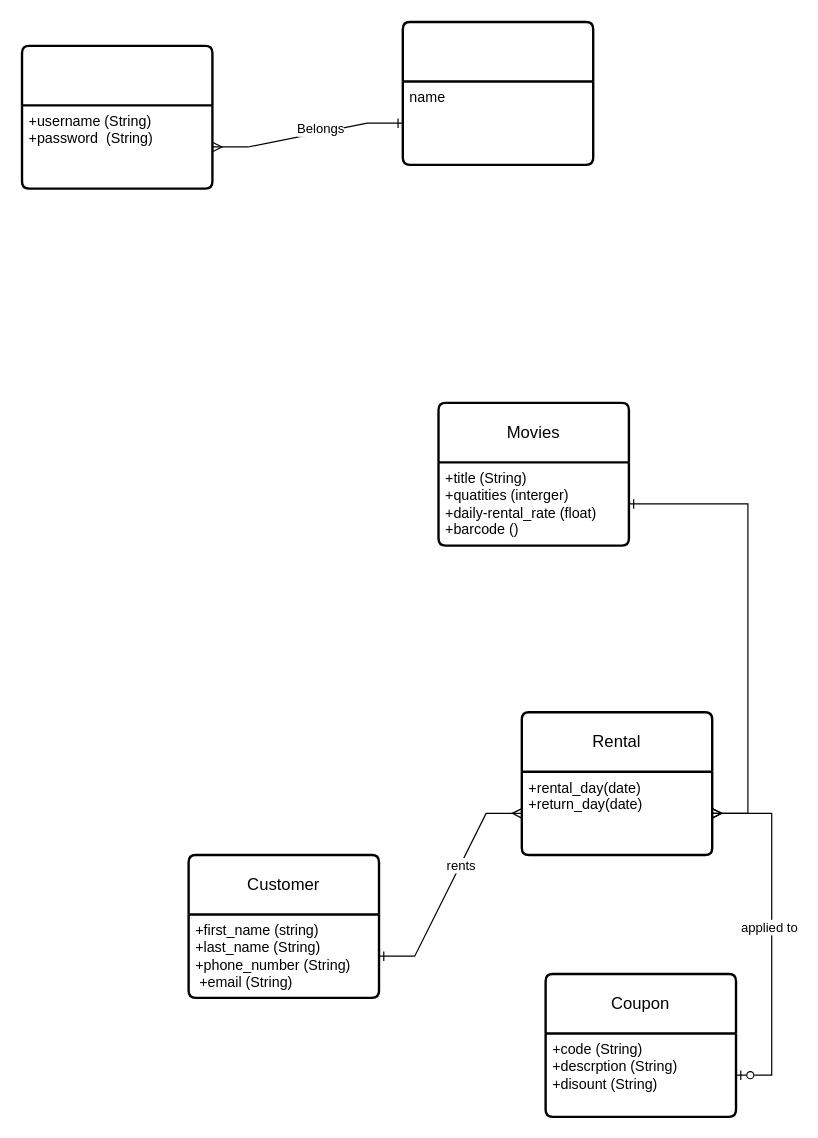
Some shapes in this 818 by 1138 pixel diagram are drawn without their labels. Here are the shapes that lost their labels. From the top down, the box of each, then its label:
(401, 20, 594, 165): Role
(20, 44, 213, 189): Users
